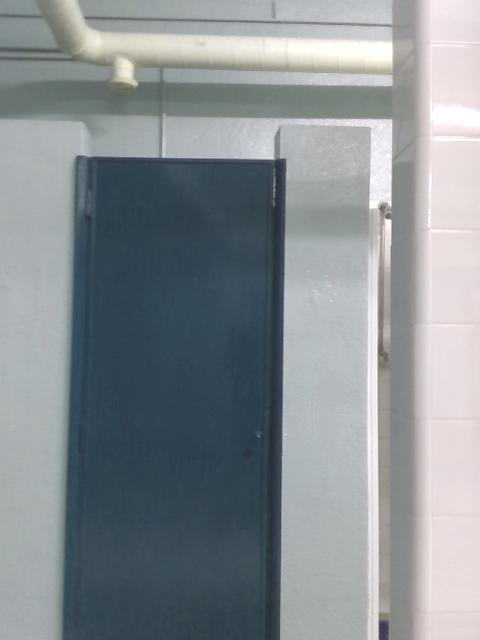closed_door: (62, 153, 286, 639)
